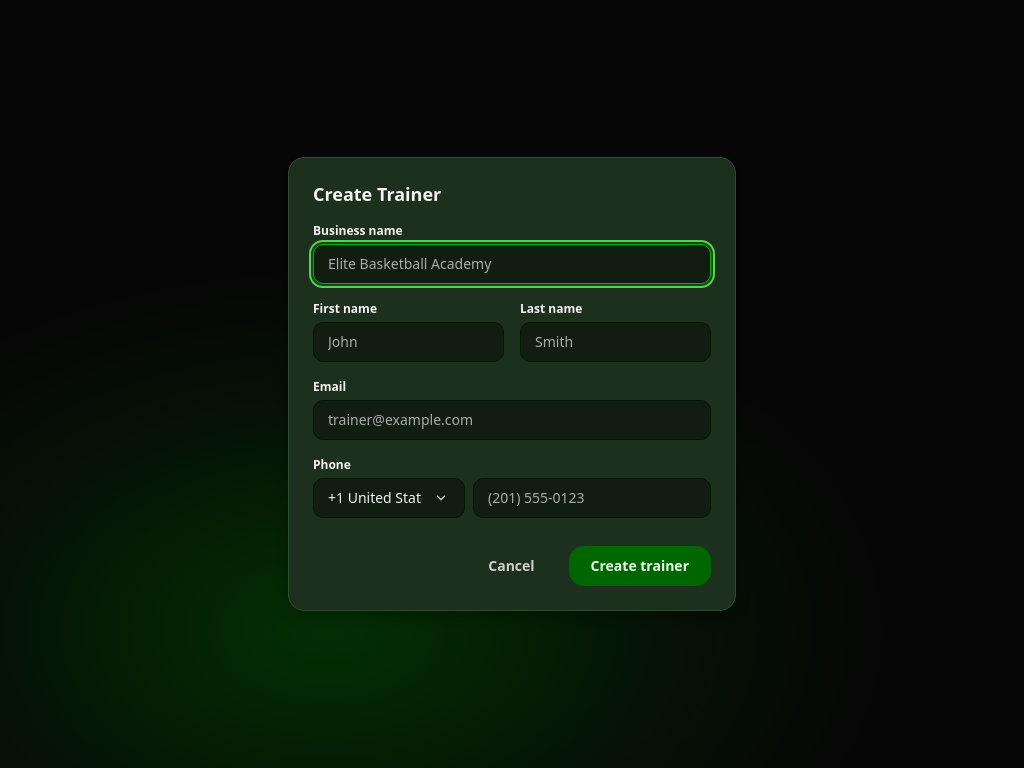
CreateTrainerModal › shows a duplicate-email message on 409 without closing the modal
Type "Ace Tennis Academy" into the field labelled "Business name" at [512, 264], box [313,244,711,284]
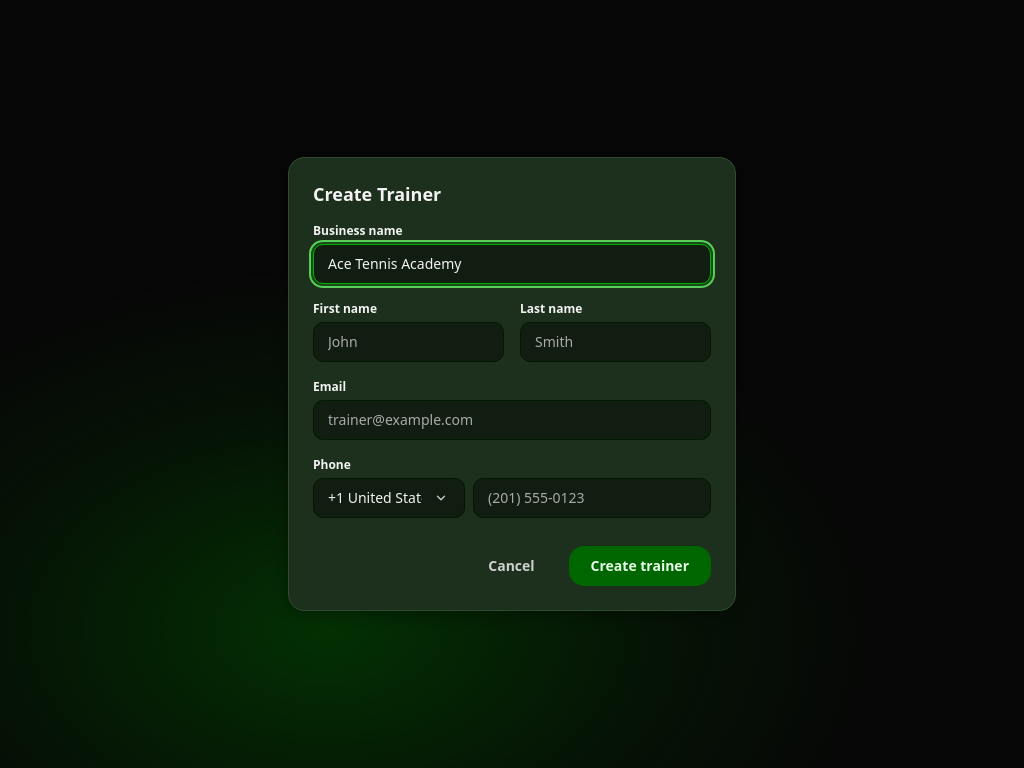
Type "Ada" into the field labelled "First name" at [408, 342], box [313,322,504,362]
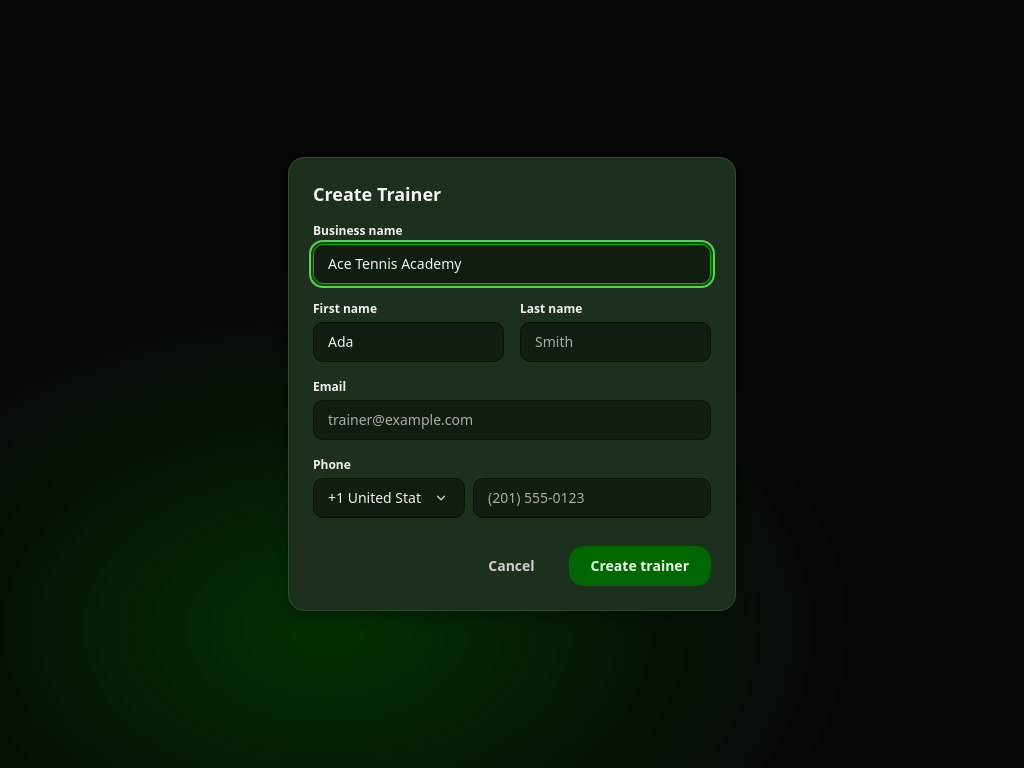
Type "Lovelace" into the field labelled "Last name" at [616, 342], box [520,322,711,362]
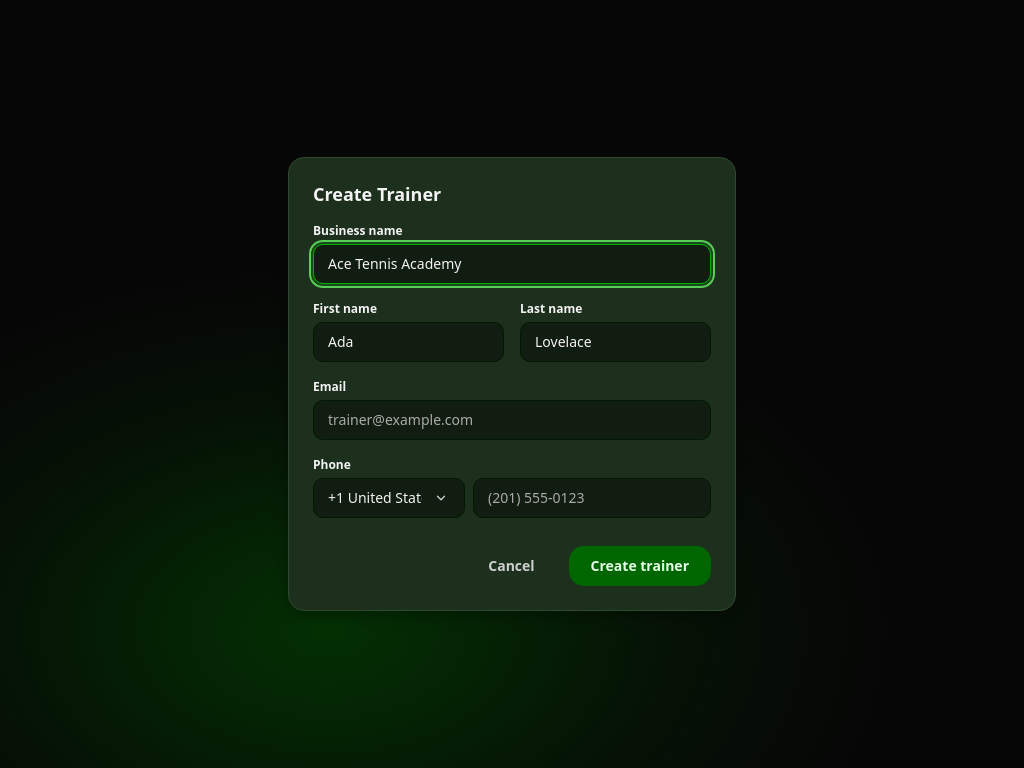
Type "ada@example.com" into the field labelled "Email" at [512, 420], box [313,400,711,440]
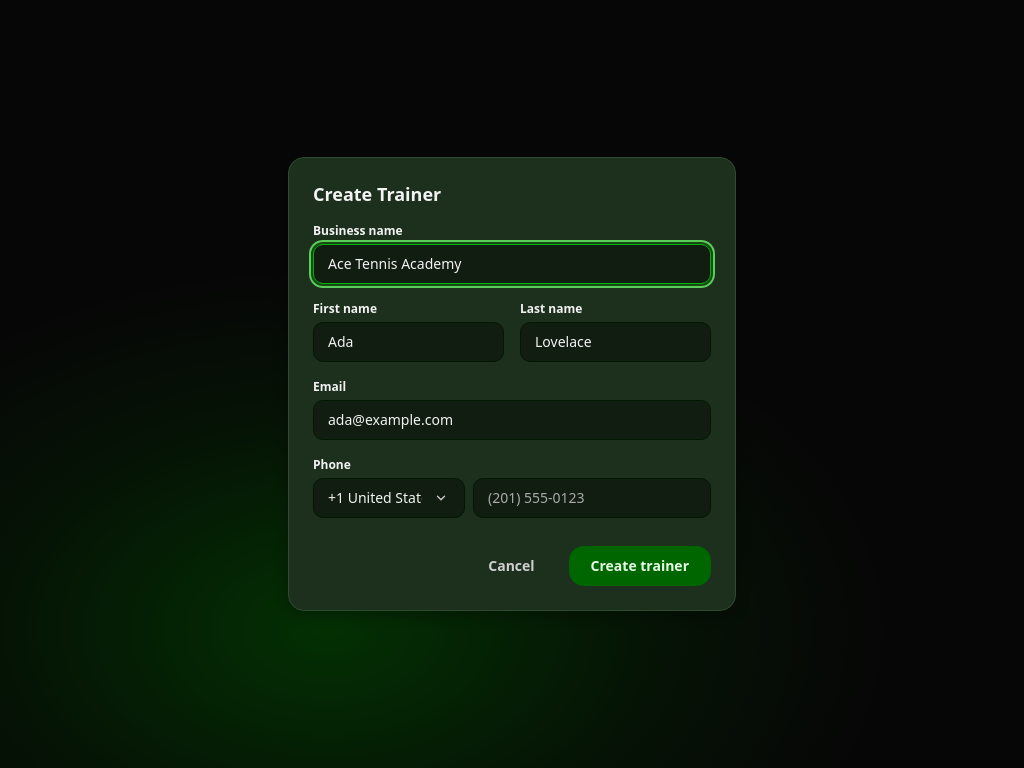
Type "+14155552671" into the field labelled "Phone" at [592, 498], box [473,478,711,518]
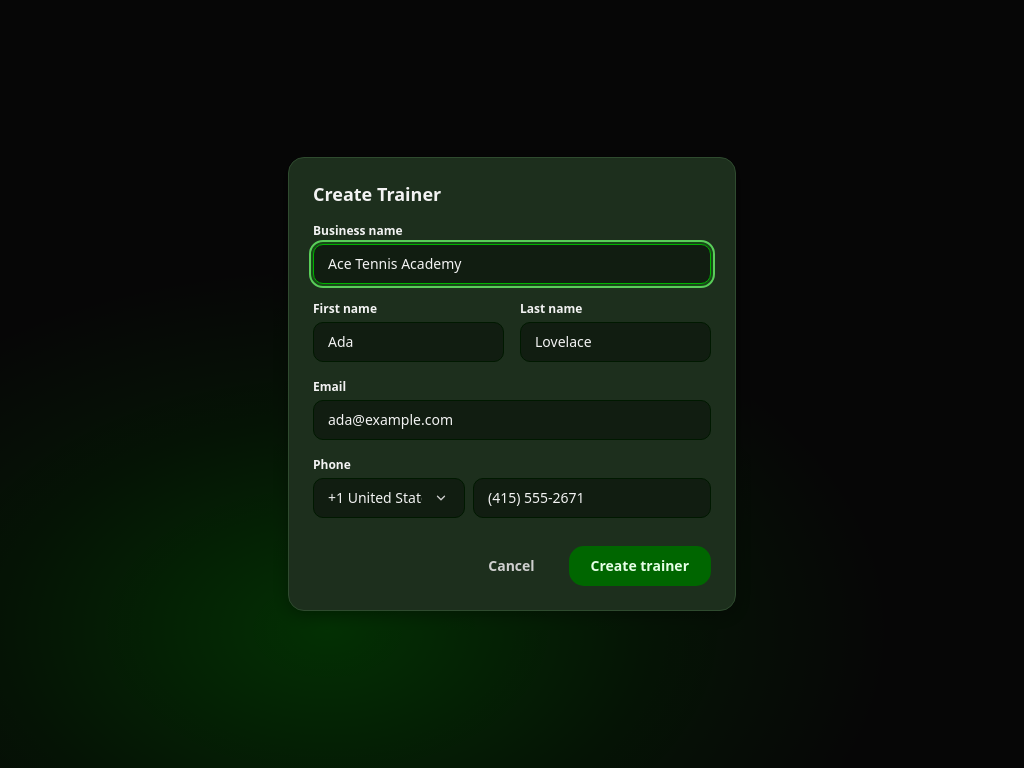
Click the button "Create trainer" at [640, 566], box [569,546,711,586]
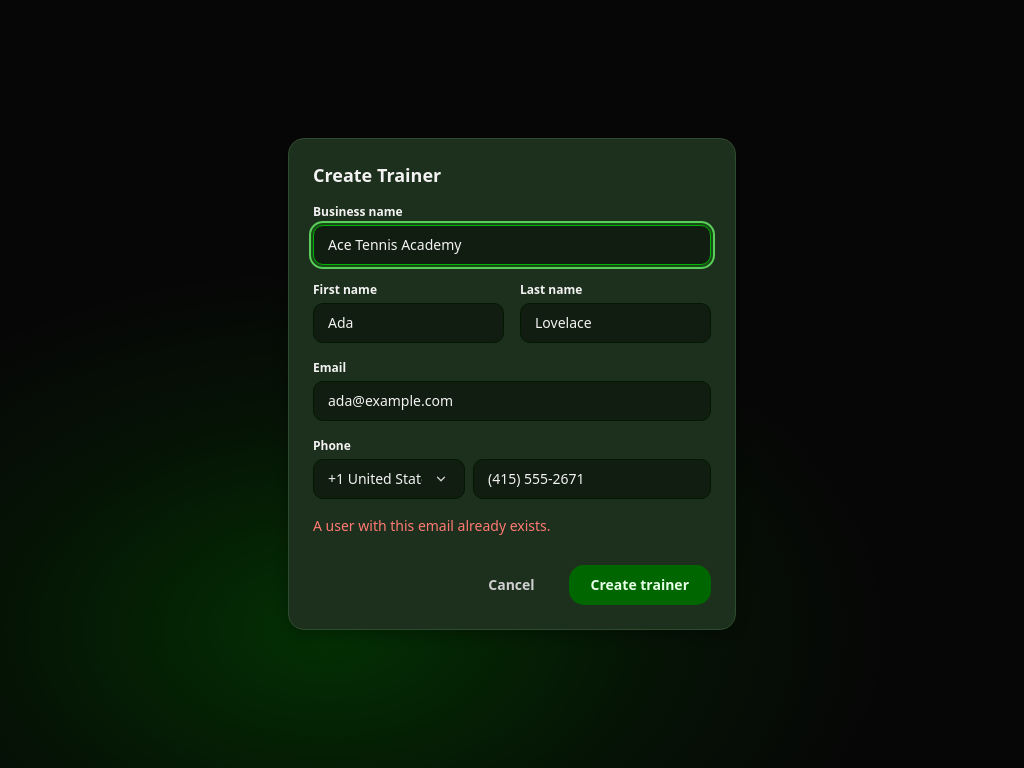
Check: the text "A user with this email already exists." is shown, box [313,516,551,535]
